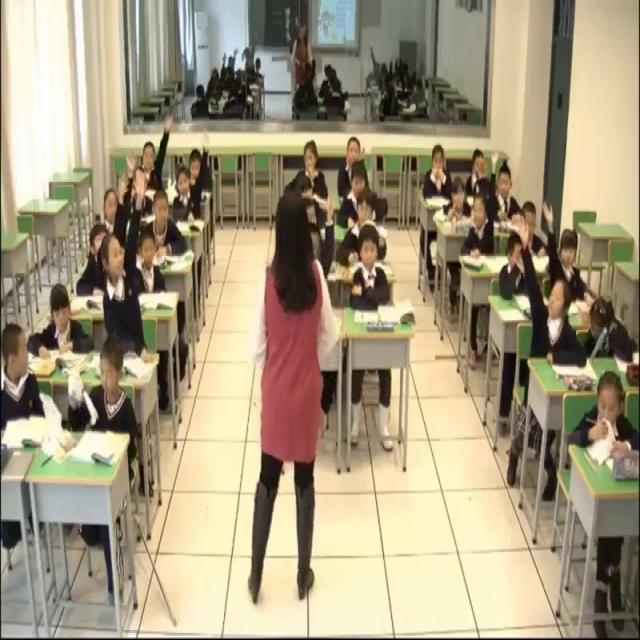distracted: (2, 322, 50, 428), (580, 298, 636, 372), (499, 233, 527, 294)
focused: (563, 366, 640, 467), (74, 338, 138, 434), (337, 192, 387, 273), (33, 286, 91, 353), (350, 227, 393, 314), (140, 188, 186, 262), (134, 226, 169, 293), (432, 172, 469, 228), (341, 161, 372, 225), (496, 162, 526, 221), (425, 142, 457, 197), (299, 140, 328, 200), (520, 202, 547, 257), (337, 132, 362, 191), (185, 144, 208, 192), (469, 146, 487, 192)
raising_hand: (95, 172, 151, 356), (518, 211, 581, 366), (76, 172, 126, 294), (541, 194, 590, 308), (462, 148, 500, 256), (173, 134, 210, 222), (306, 188, 337, 289), (103, 155, 138, 234), (141, 112, 172, 196)
